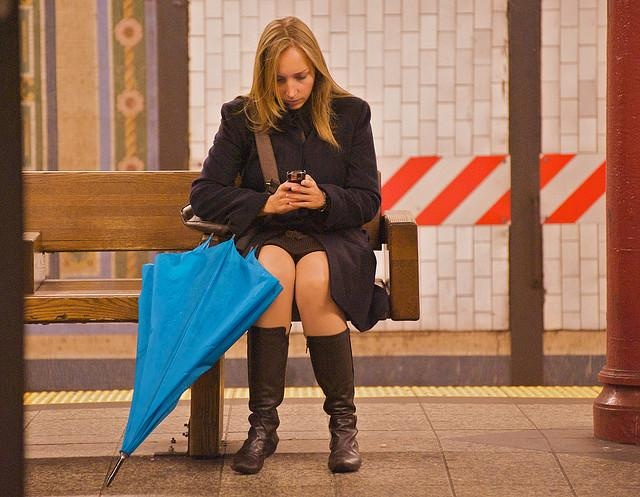person: (188, 12, 386, 474)
